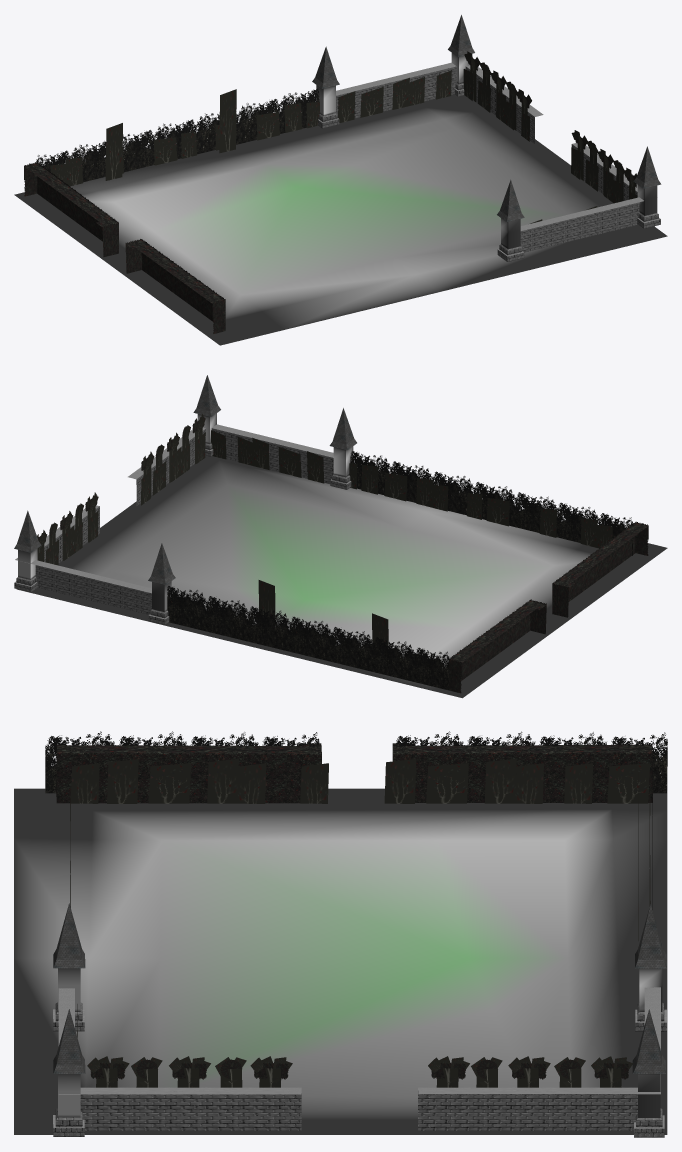
File: cgc_fairway.fbx
3 renders of one model, top to bottom at view 1: azimuth 30°, elevation 25°; view 2: azimuth 150°, elevation 25°; view 3: azimuth 270°, elevation 25°, orthographic. The views are drawn at different scales.
Visible parts, largest first — view 1: ground, bushes, vines, walls, towers, treeshrubs; view 2: ground, bushes, vines, walls, towers, treeshrubs; view 3: ground, bushes, walls, vines, towers, treeshrubs.
Part boxes in pixels (left/top/right/bottom): ground: left=14, top=94, right=667, bottom=345; bushes: left=24, top=88, right=319, bottom=333; vines: left=50, top=70, right=597, bottom=223; walls: left=336, top=62, right=643, bottom=252; towers: left=312, top=15, right=661, bottom=261; treeshrubs: left=463, top=51, right=637, bottom=203; ground: left=16, top=455, right=667, bottom=698; bushes: left=167, top=451, right=648, bottom=693; vines: left=169, top=430, right=612, bottom=666; walls: left=15, top=424, right=333, bottom=614; towers: left=14, top=375, right=356, bottom=624; treeshrubs: left=37, top=414, right=205, bottom=565; ground: left=14, top=788, right=667, bottom=1134; bushes: left=45, top=731, right=667, bottom=909; walls: left=58, top=987, right=660, bottom=1130; vines: left=70, top=758, right=650, bottom=1037; towers: left=53, top=903, right=666, bottom=1137; treeshrubs: left=87, top=1056, right=633, bottom=1104.
Size of what is drawn, in the model's own units: 52.11 by 66.17 by 11.44.
